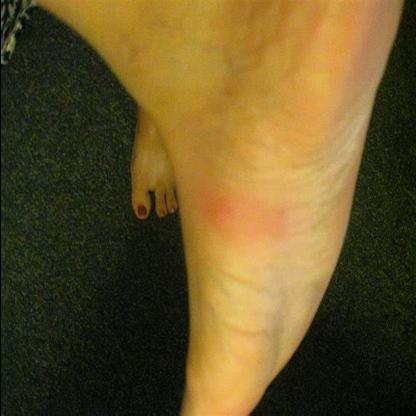Wasp: (191, 179, 297, 255)
